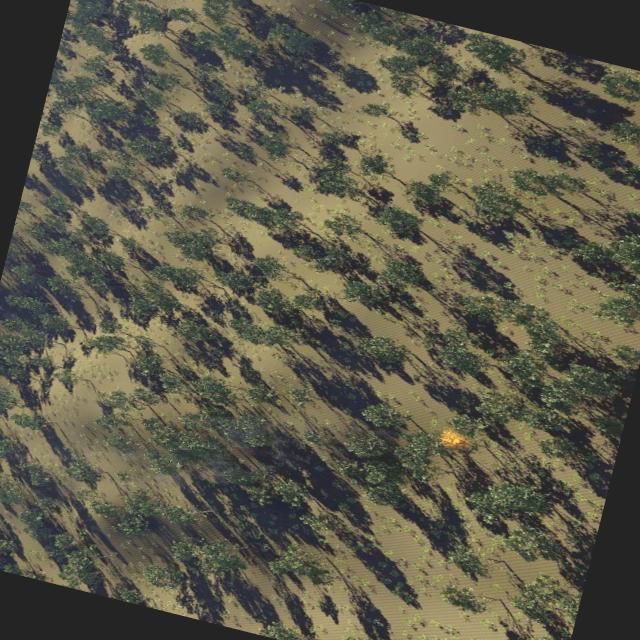fire: (436, 425, 476, 453)
